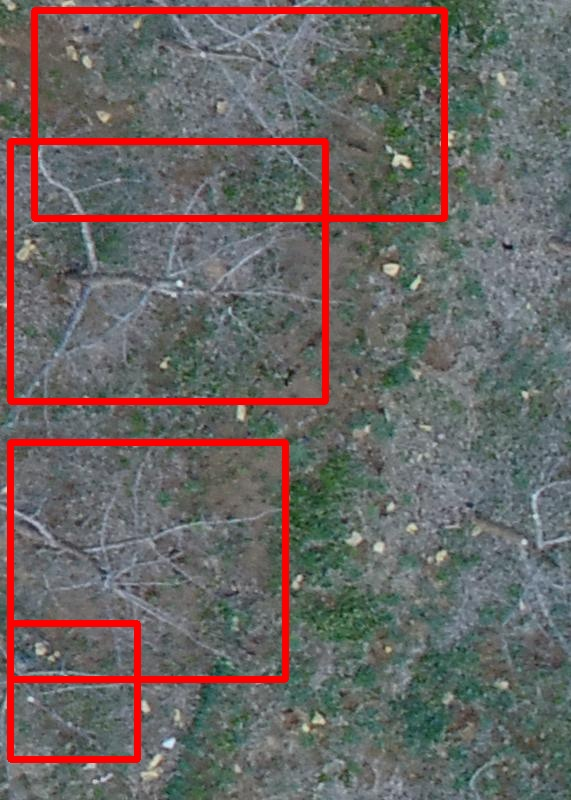apple: (34, 10, 444, 218), (10, 141, 325, 401), (10, 442, 285, 679), (10, 623, 137, 759)
